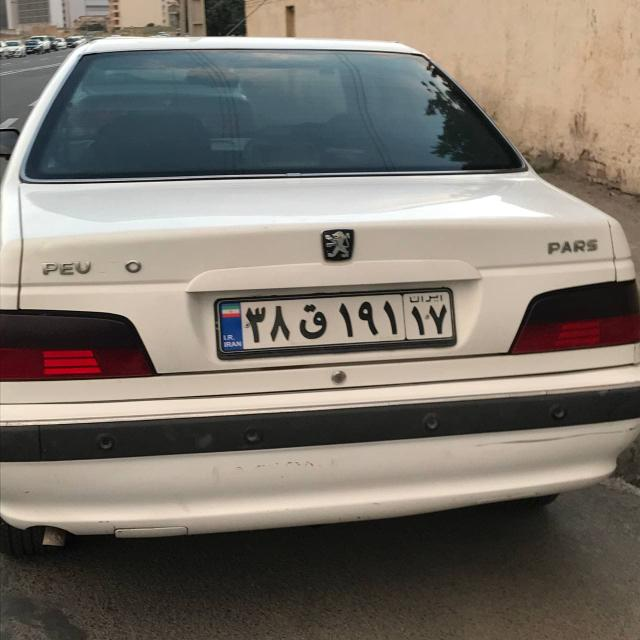Plates: (218, 286, 453, 352)
